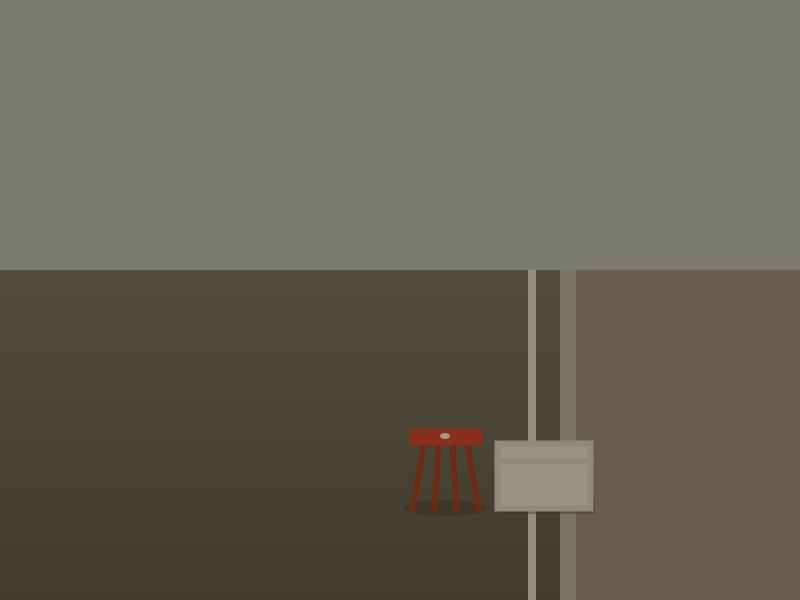ROAD_OBSTACLE: (497, 443, 590, 508), (409, 428, 482, 508)
